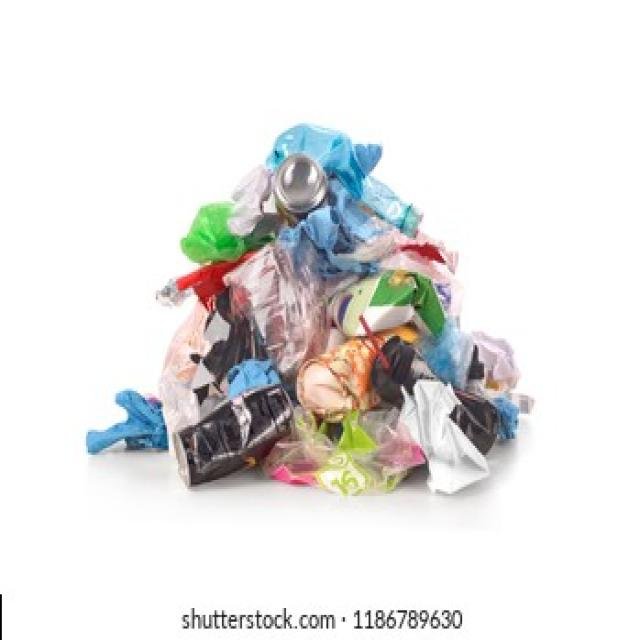trash: (38, 117, 516, 500)
